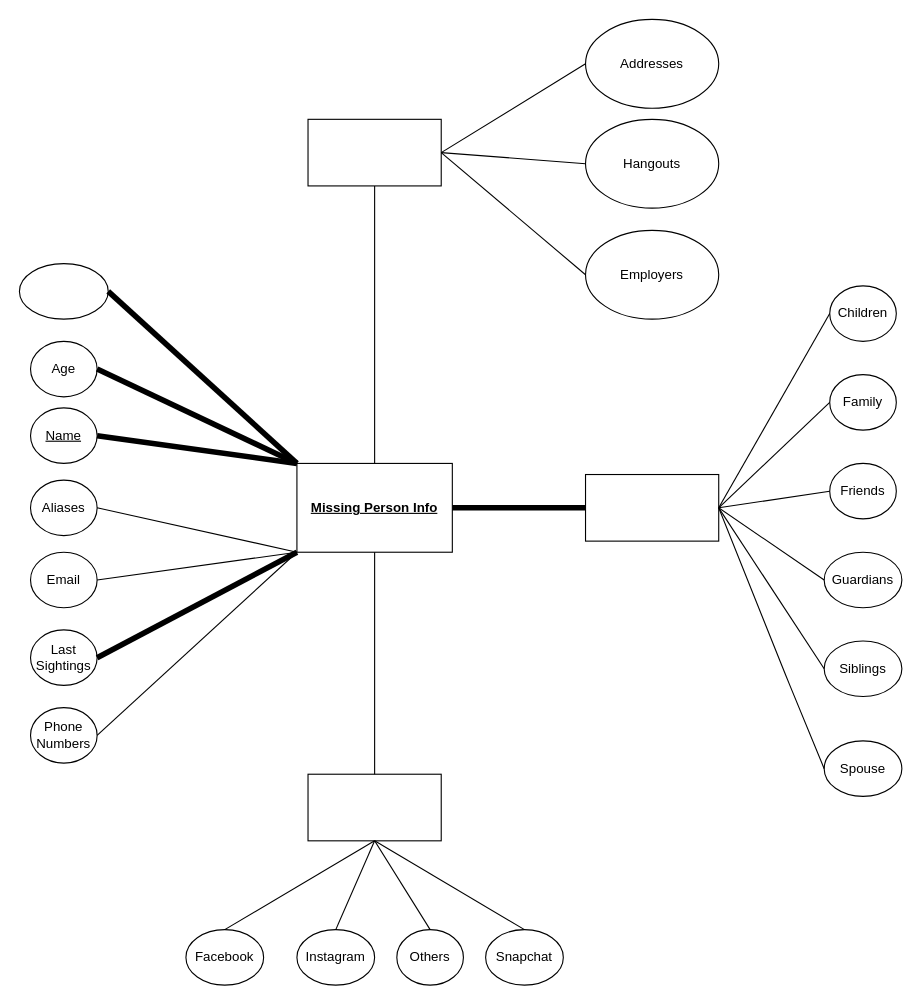
The diagram is 921 pixels wide and 1005 high, and some of its shapes have lost their labels. The centre of each missing label's shape, as x and y in pixels:
"Connections" goes at point (651, 507).
"Current Locations" goes at point (374, 152).
"Description" goes at point (63, 291).
"Social Media" goes at point (374, 807).
